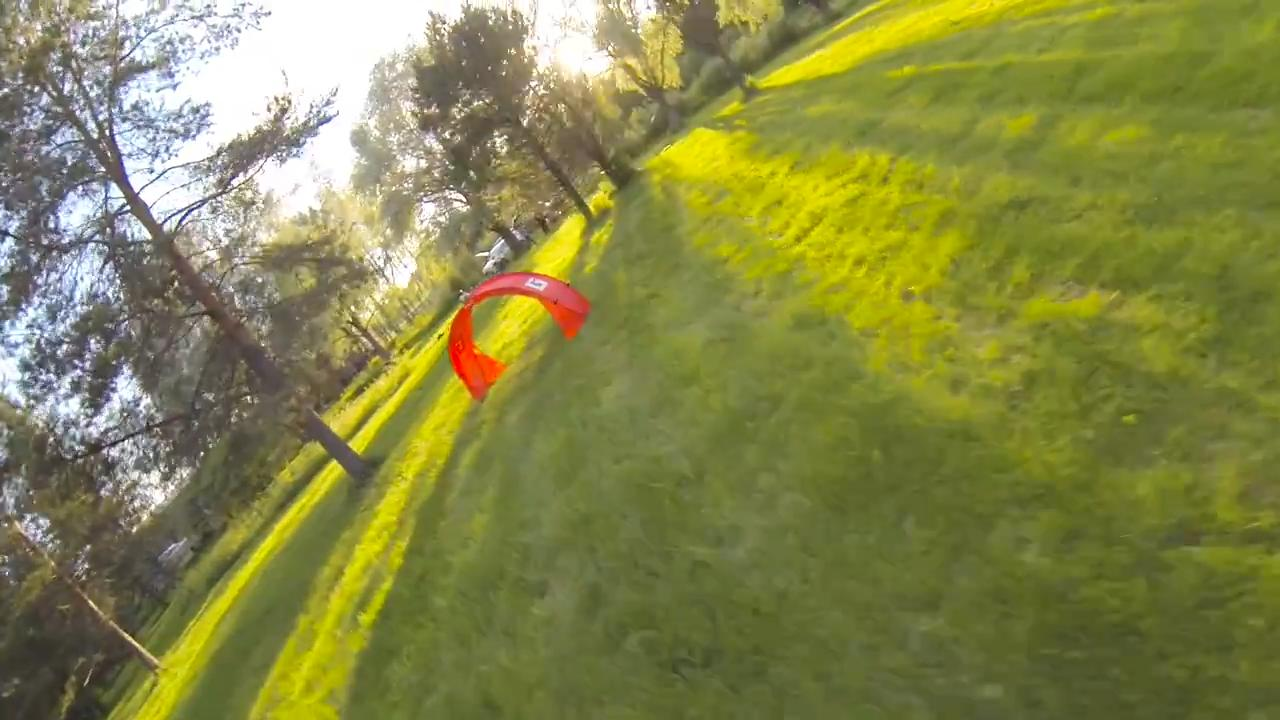gate: (445, 272, 595, 398)
